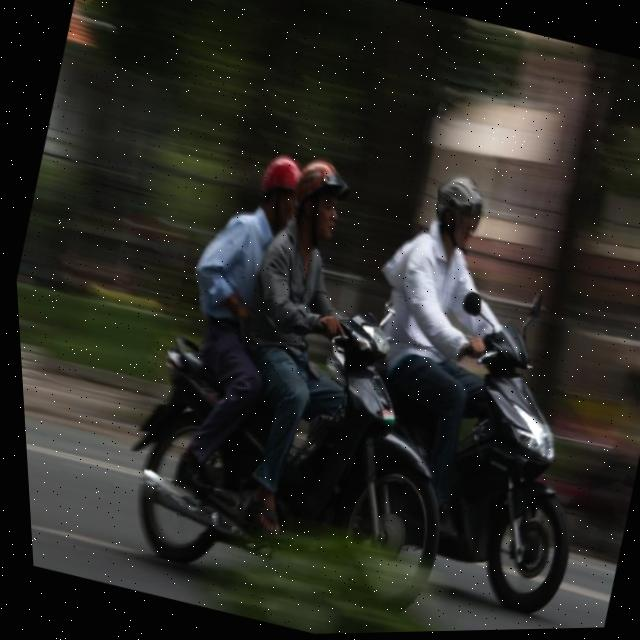motorcycle: (75, 249, 506, 639), (395, 293, 639, 632)
